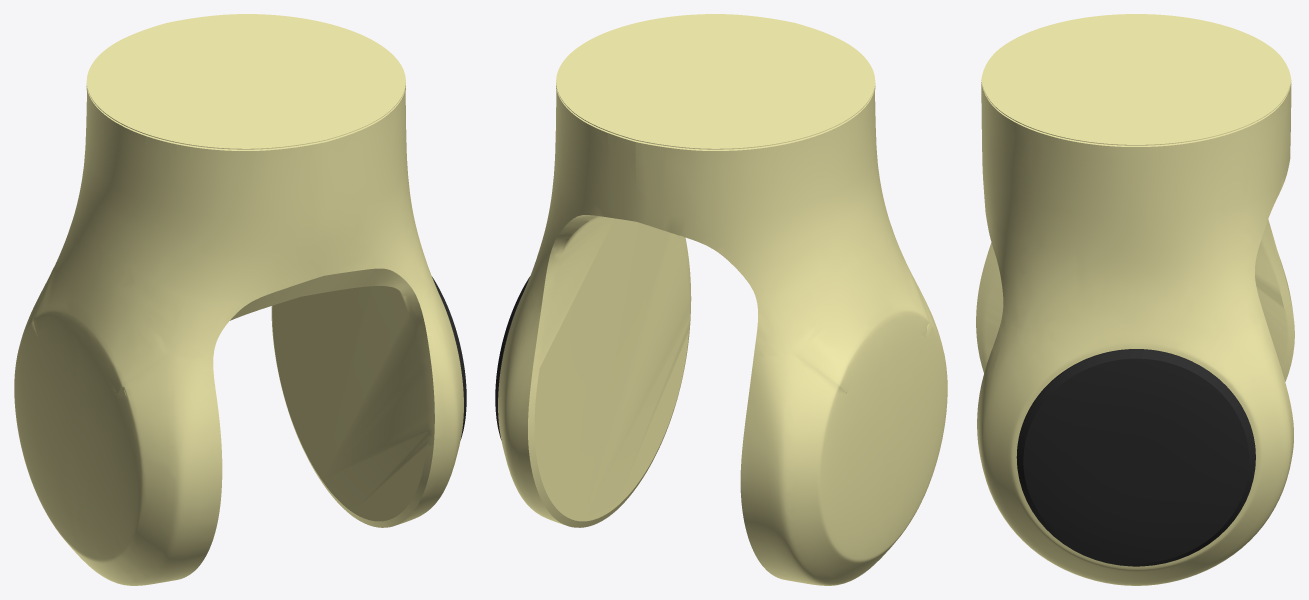
File: shoulder_roll_l_j2_link.glb
3 views of the same model, side by side, from view 1: azimuth 30°, elevation 25°; view 2: azimuth 150°, elevation 25°; view 3: azimuth 270°, elevation 25° (orthographic). The views are drawn at different scales.
Parts seen in each view (by area): view 1: Mesh_0.022; view 2: Mesh_0.022; view 3: Mesh_0.022.
Boxes of the visible parts, x1,y1,x2,y2 form: Mesh_0.022: (14, 14, 466, 585); Mesh_0.022: (495, 14, 947, 585); Mesh_0.022: (976, 14, 1294, 585).
Bounding box in the file's own units: 0.1184 × 0.1533 × 0.0988.
2 materials, 1 textured.
